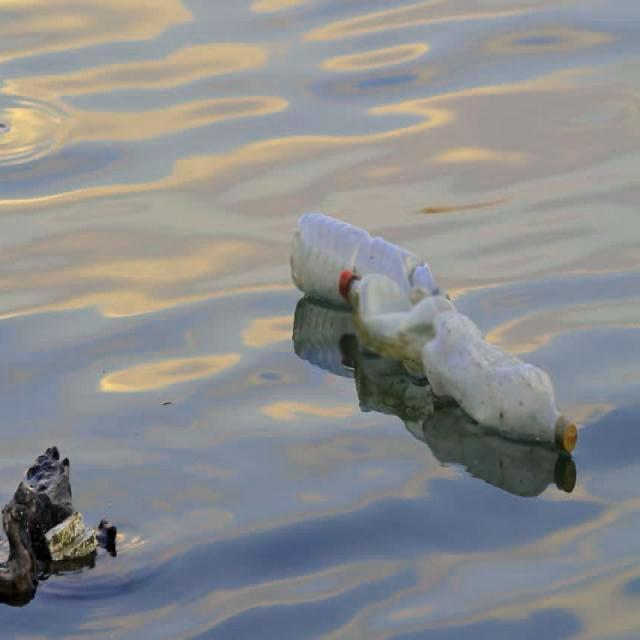Plastic: (428, 313, 583, 467), (284, 204, 461, 329), (338, 260, 466, 380)
